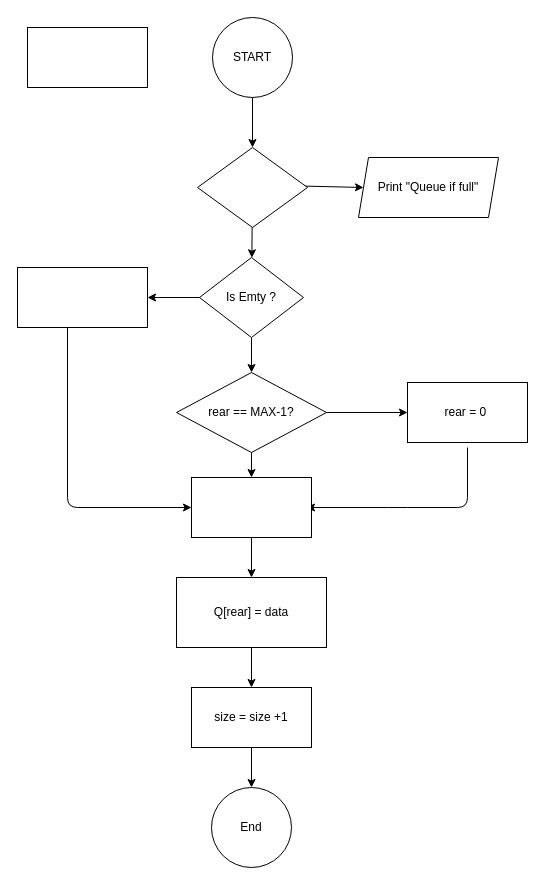
Image size: 545x885. Some labels were removed from this diagram. Here are the shapes that lost their labels. From the top down, the box of each, then its label:
(26, 26, 148, 88): ENQUEUE OPERATION
(196, 146, 308, 228): is Full ?
(16, 266, 148, 328): front = 0 rear = 0
(190, 476, 312, 538): rear = rear +1
